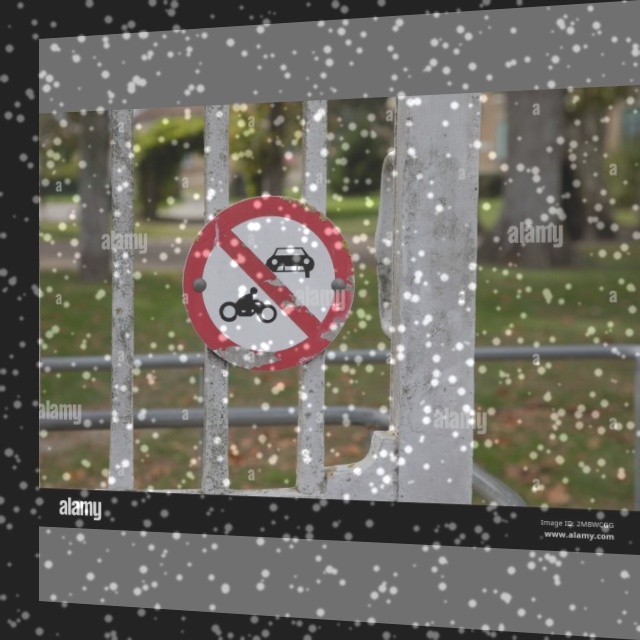All_Motor_Vehicles_Prohibited: (181, 196, 351, 374)
